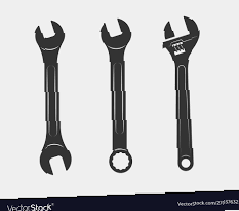wrench: (158, 9, 212, 176)
